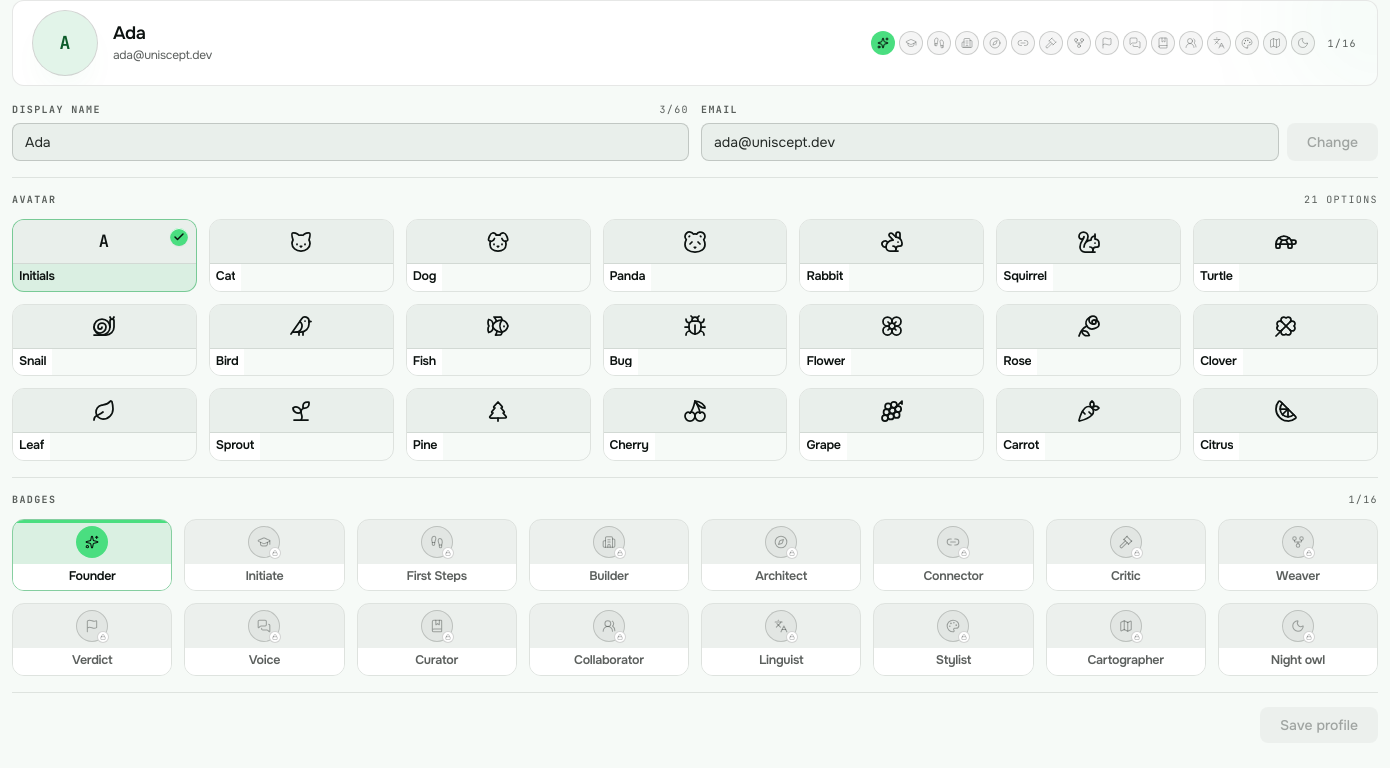
Test: ProfileSection › GIVEN the profile of a named account › WHEN an avatar icon is picked and the profile is saved › THEN only the changed icon is saved and the success shows
Click the radio button labelled "Cat". click: (301, 255)
box: [209,219,394,292]
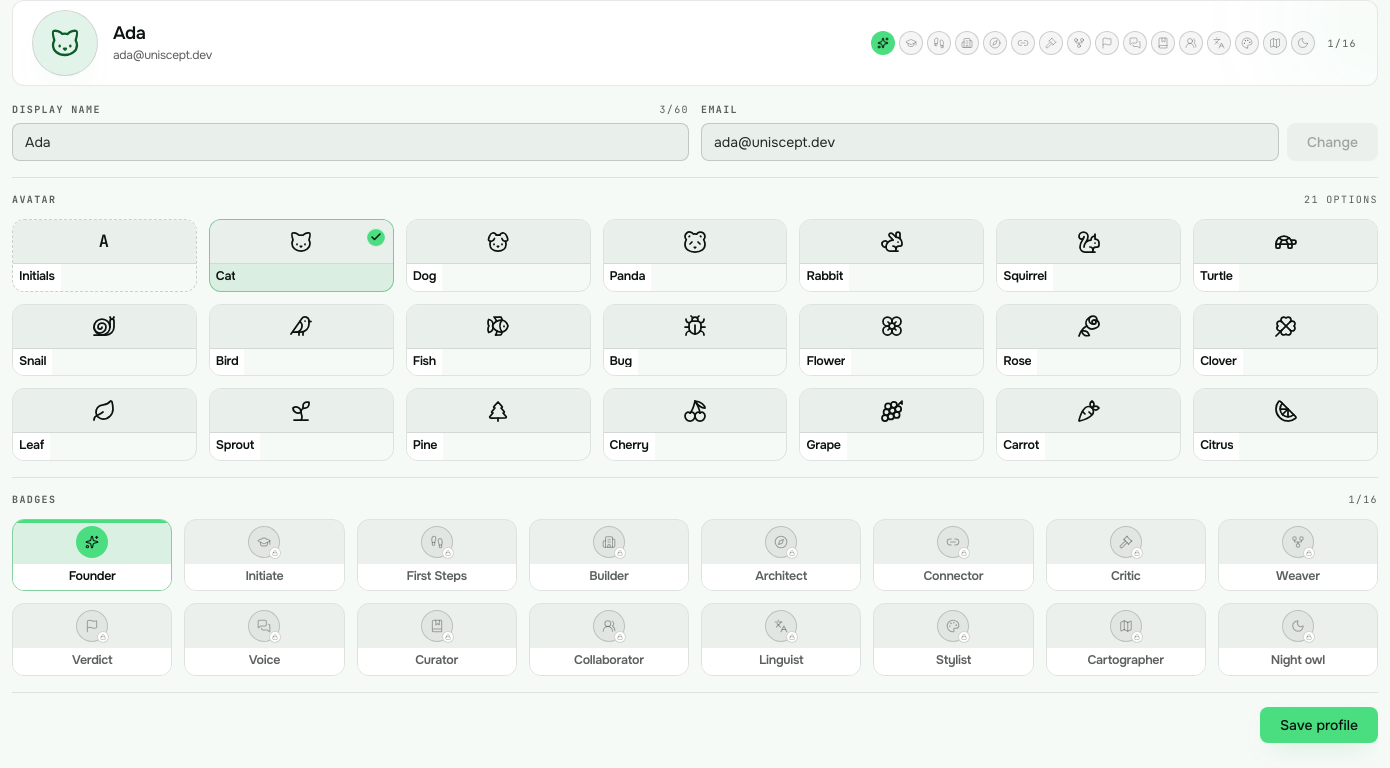
Click the button "Save profile". click: (1319, 724)
box: [1260,706,1378,742]
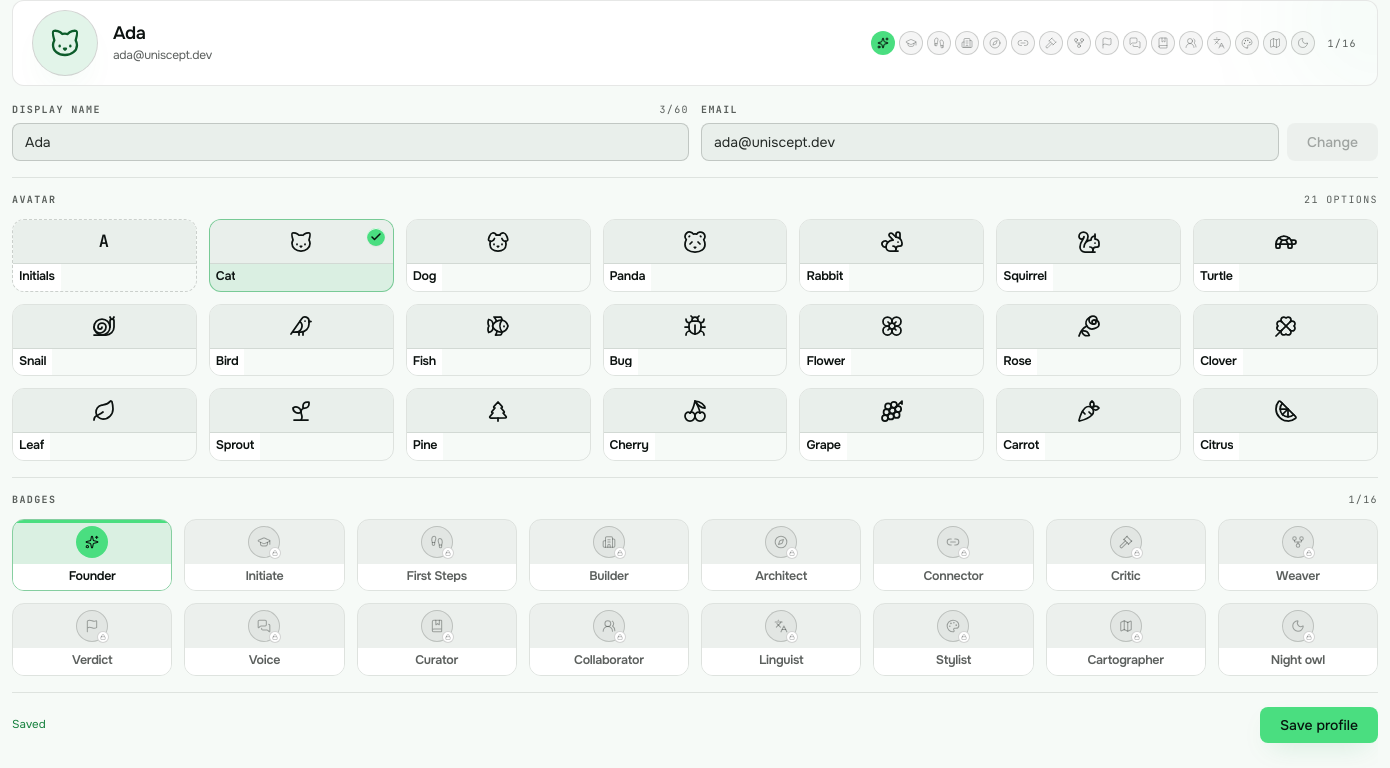
Expected: the text "Saved" is shown, [12,717,46,732]
